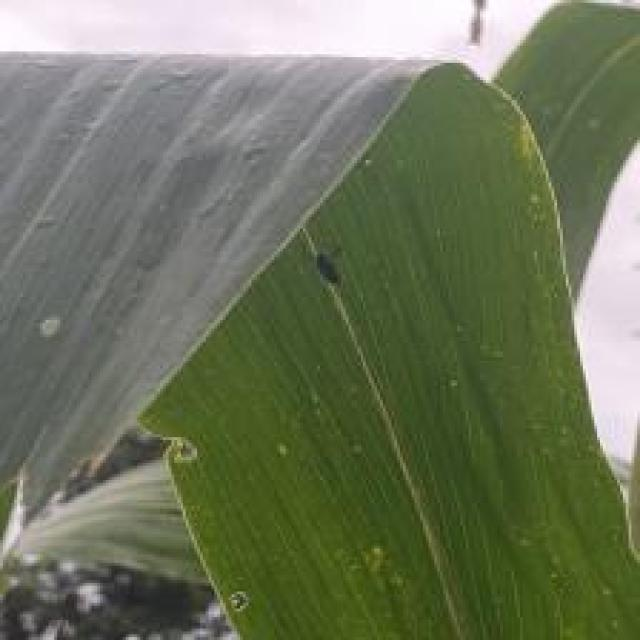Plaga: (300, 244, 351, 301)
